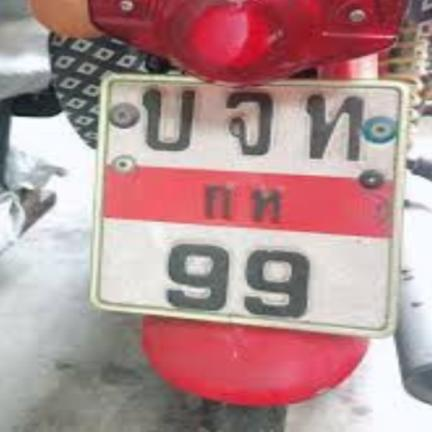9: (153, 239, 229, 315), (238, 247, 316, 320)
A08: (216, 89, 282, 158)
A23: (294, 91, 367, 166)
A26: (138, 83, 201, 156)
BKK: (169, 172, 292, 227)
